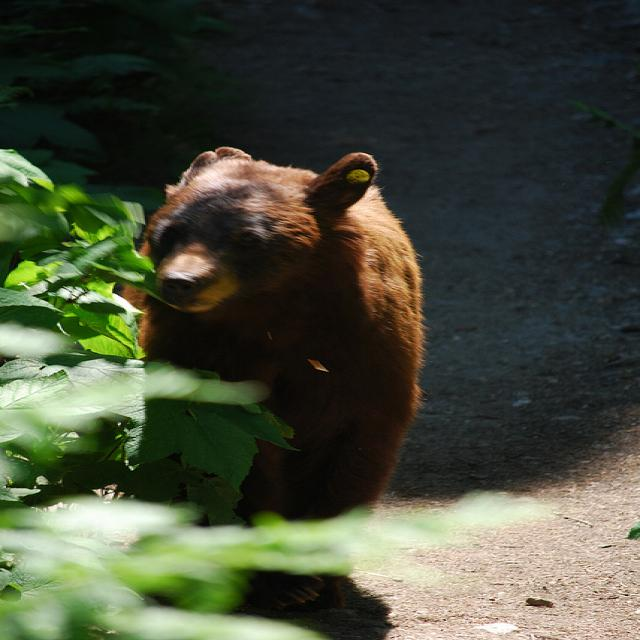Bear: (124, 142, 427, 544)
